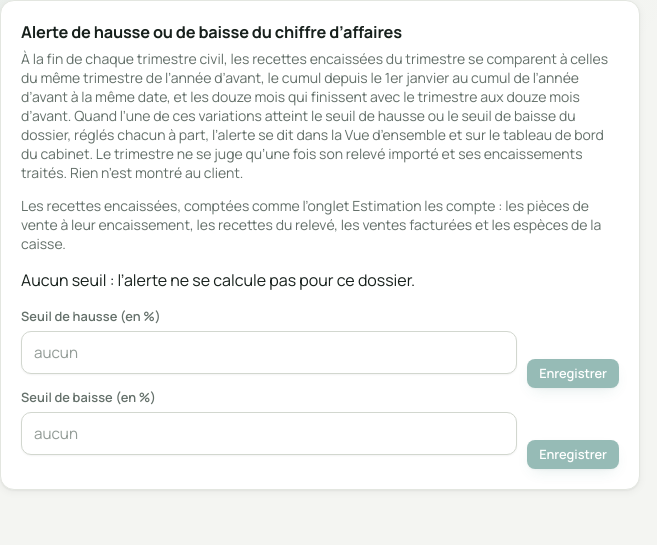
Scenario: la carte des seuils › sans seuil, le dit ; deux formulaires, chacun refusant avant le clic ce que ses bornes refusent
expect the text "Aucun seuil : l’alerte ne se calcule pas pour ce dossier." is shown: met, box [21,269,415,291]
101 % : une hausse permise, une baisse refusée (au-delà de 100 %, le chiffre serait sous zéro).
Type "101" into the field labelled "Seuil de hausse (en %)" at (269, 352), box [21,331,517,374]
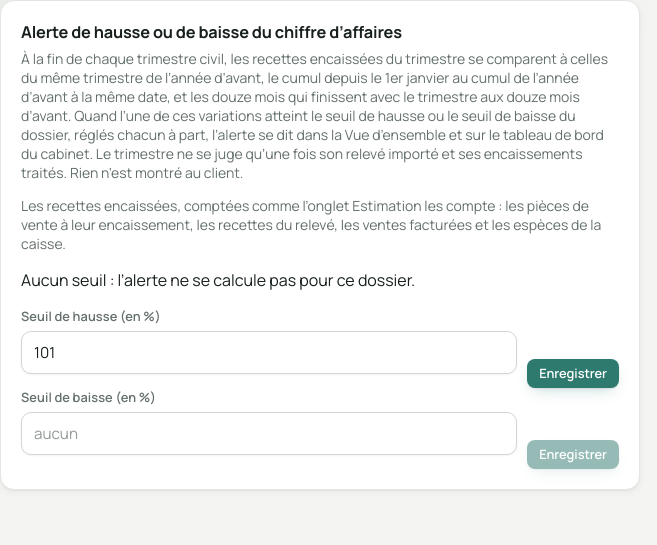
Type "101" into the field labelled "Seuil de baisse (en %)" at (269, 434), box [21,412,517,455]
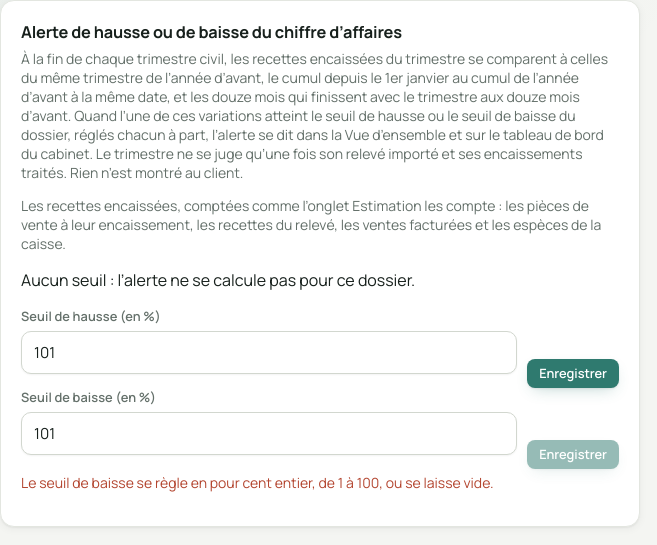
expect the text "Le seuil de baisse se règle en pour cent entier, de 1 à 100, ou se laisse vide." is shown: met, box [21,473,494,492]
Replace the text in the field labelled "Seuil de baisse (en %)" with "100" at (269, 434), box [21,412,517,455]
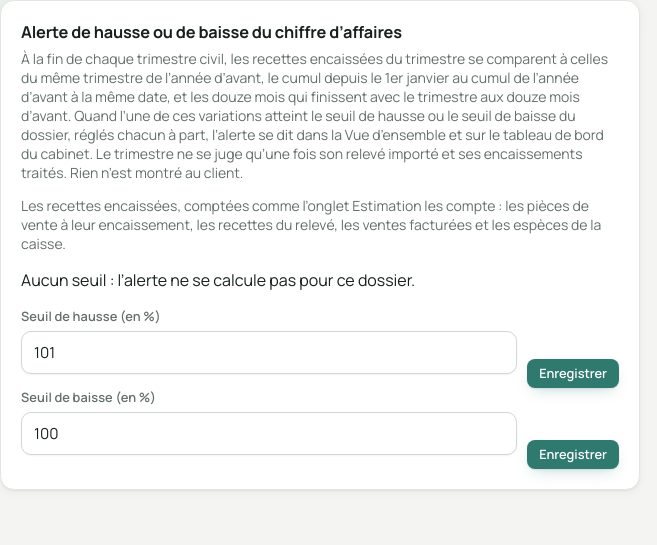
expect the text "Le seuil de baisse se règle en pour cent entier, de 1 à 100, ou se laisse vide." is gone: met
expect the 2nd button "Enregistrer" is enabled: met, box [527,440,619,469]
Replace the text in the field labelled "Seuil de hausse (en %)" with "0" at (269, 352), box [21,331,517,374]
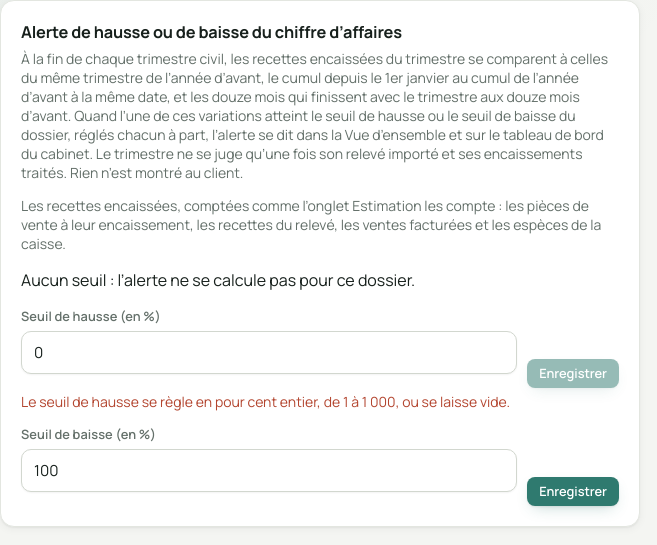
expect the text "Le seuil de hausse se règle en pour cent entier, de 1 à 1 000, ou se laisse vide." is shown: met, box [21,392,510,411]
expect the 1st button "Enregistrer" is disabled: met, box [527,359,619,388]
